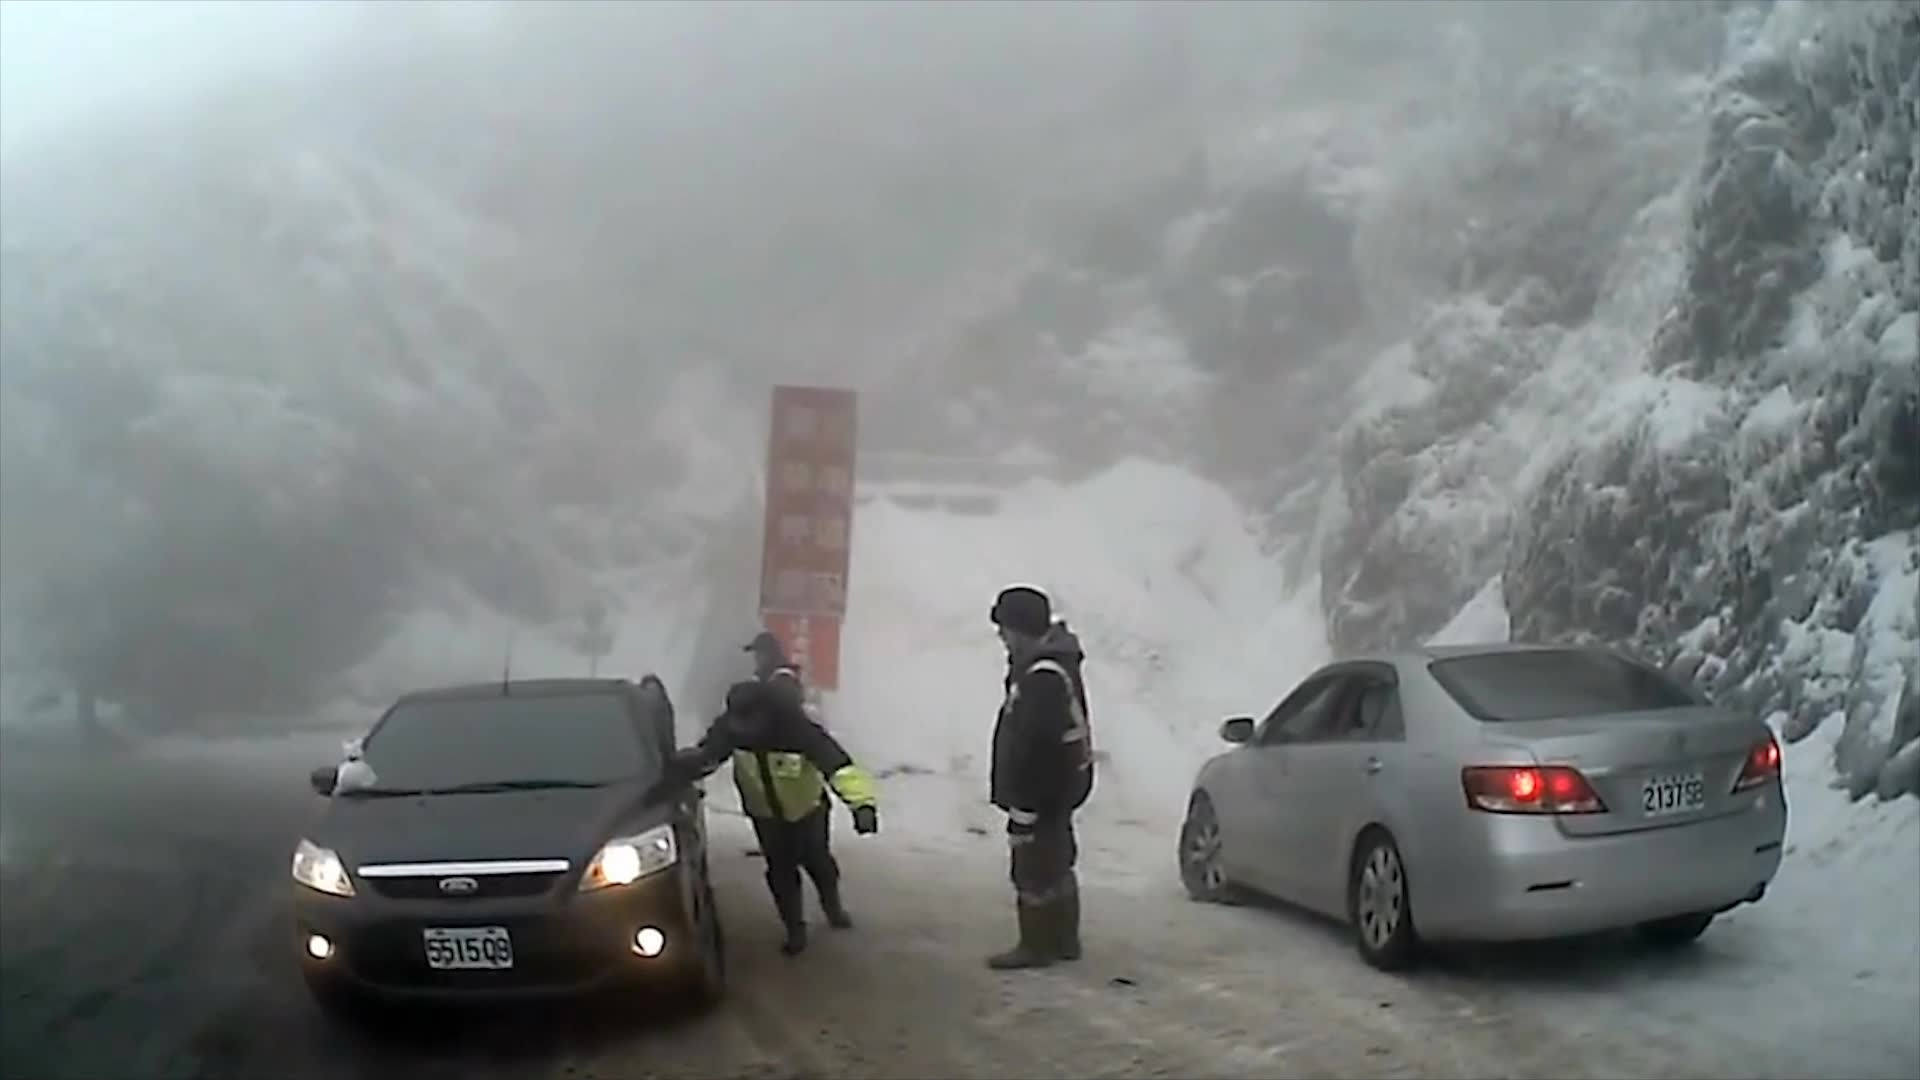pedestrian: (684, 678, 890, 948), (962, 590, 1093, 975), (738, 631, 813, 864), (1002, 620, 1080, 807)
vehicle: (1175, 644, 1786, 971), (288, 678, 724, 1018)
